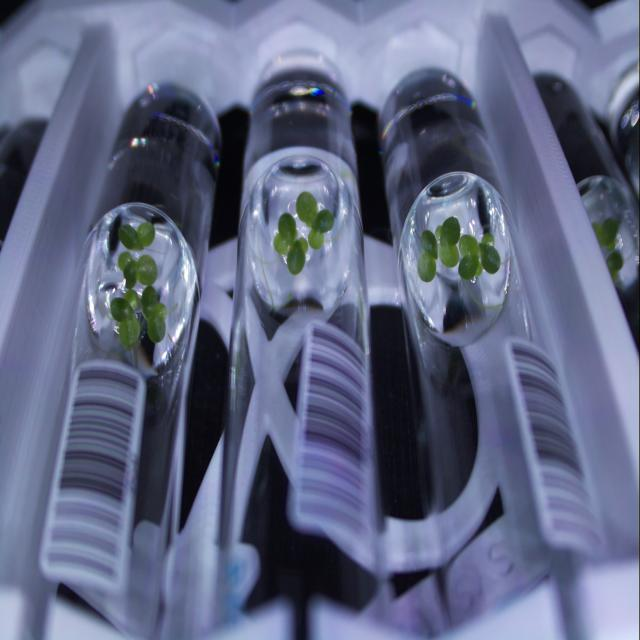Lemna-Gibba: (274, 212, 309, 275), (296, 192, 334, 250), (459, 233, 501, 280), (110, 289, 141, 349), (140, 285, 168, 342), (118, 252, 158, 287), (436, 217, 460, 267), (418, 230, 439, 282), (119, 222, 155, 250)
